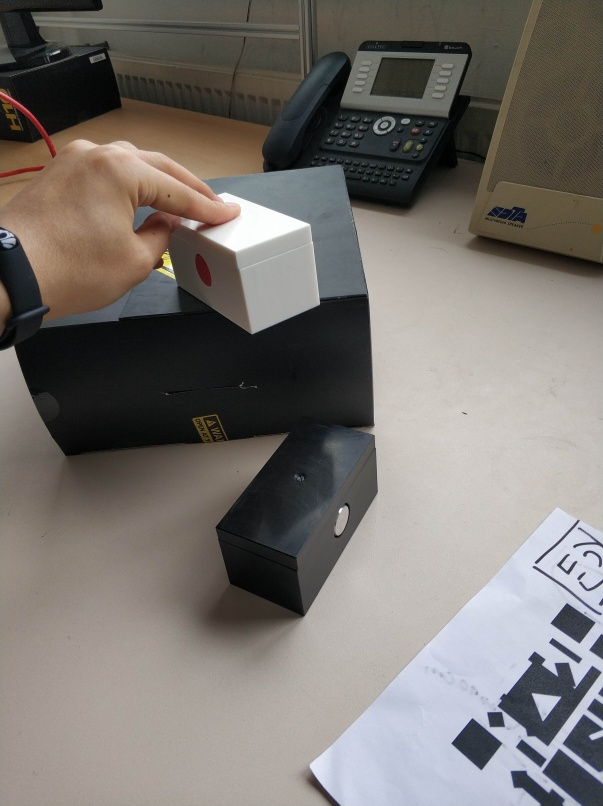black+black+silver: (212, 421, 378, 627)
white+white+red: (170, 189, 322, 341)
